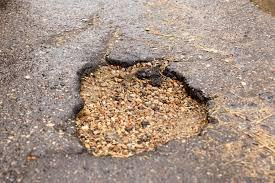pothole: (69, 57, 212, 159)
